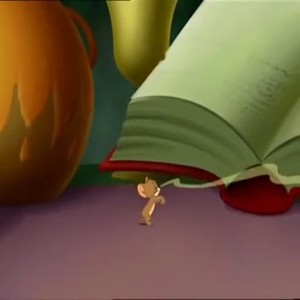Jerry: (131, 176, 167, 227)
